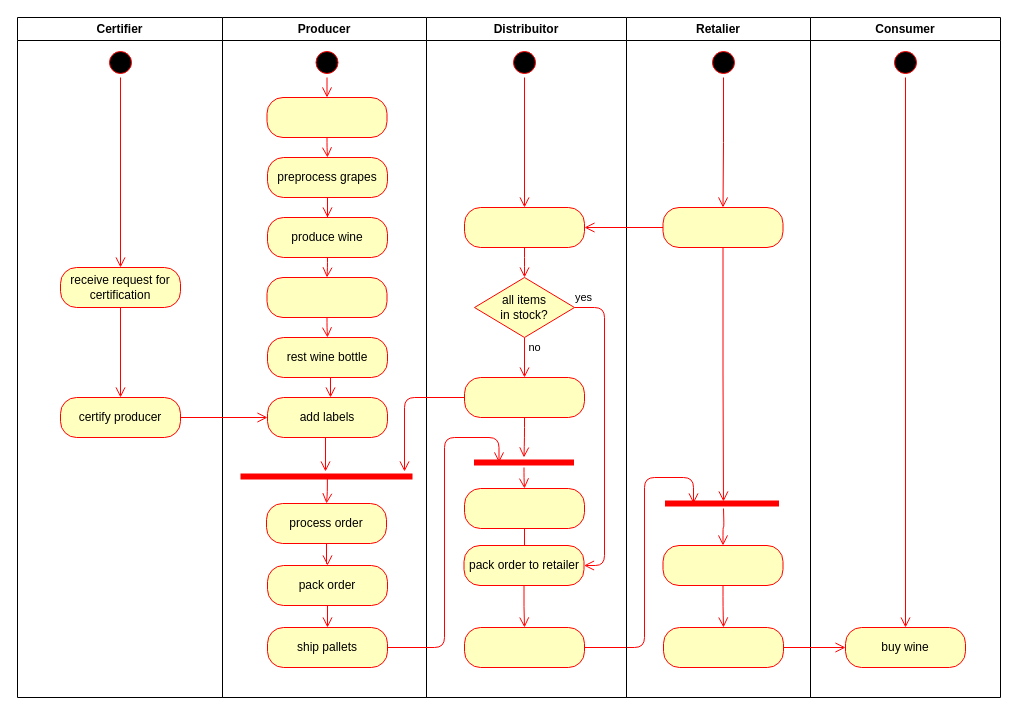
This 1018x715 diagram has some shape labels left out. Each missing label, with the centre of its shape:
bottle up wine: (x=326, y=297)
harvest grapes: (x=326, y=117)
place order to distributor: (x=722, y=227)
place order to producer: (x=524, y=397)
process orders received: (x=524, y=227)
put wine for sale: (x=723, y=647)
receive packets: (x=722, y=565)
receive pallets: (x=524, y=508)
ship packets: (x=524, y=647)
